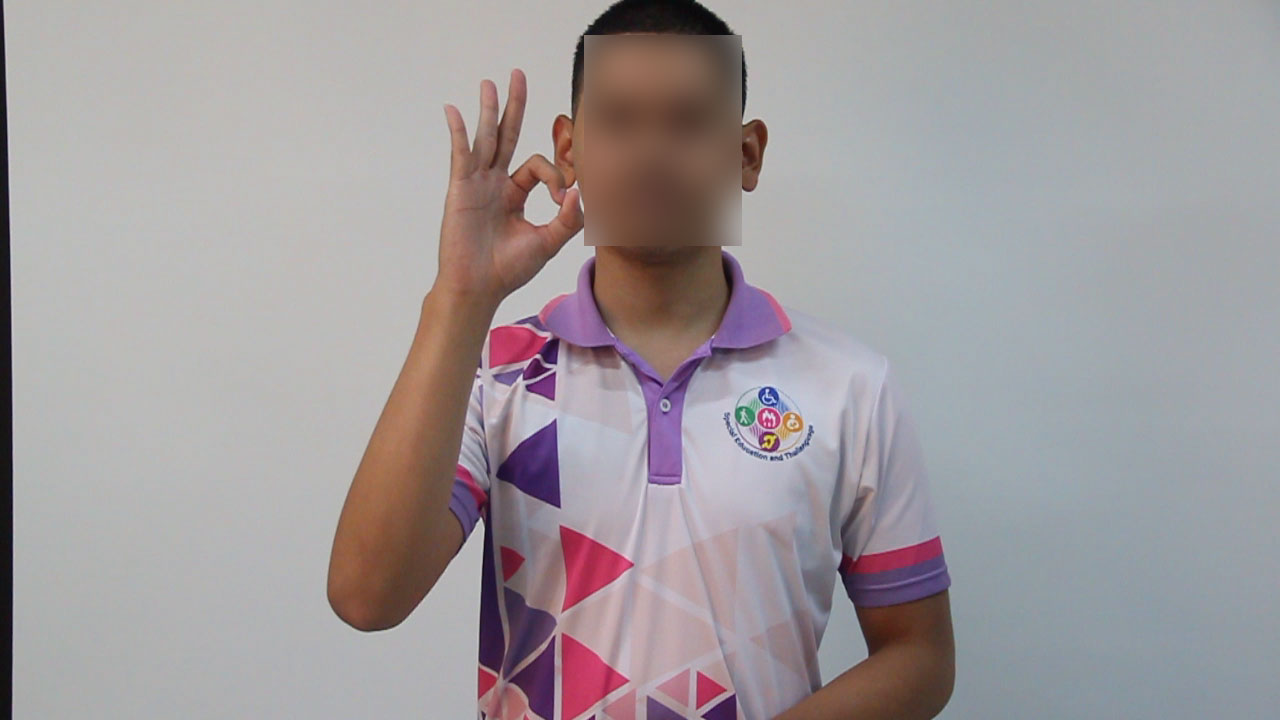for: (410, 63, 593, 316)
